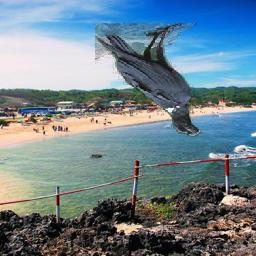Crow: (96, 23, 203, 137)
